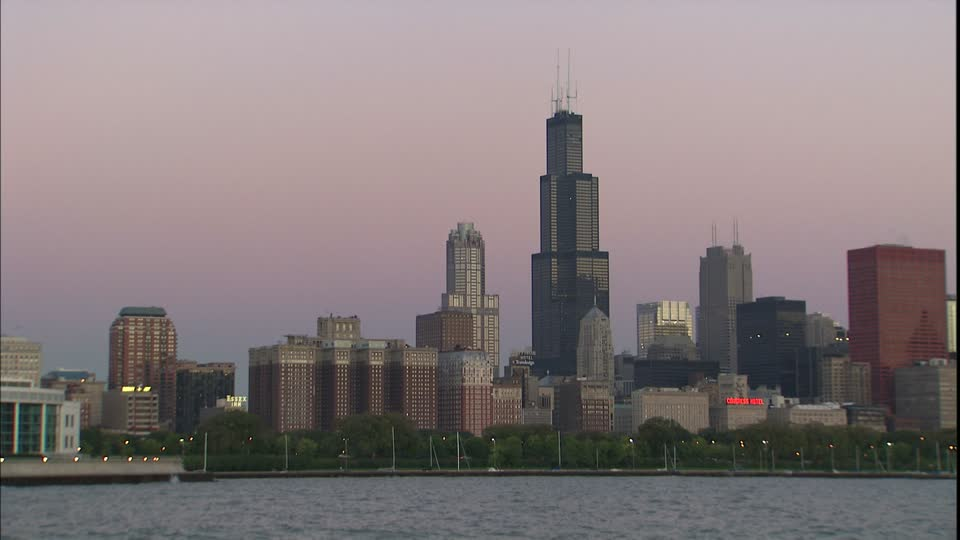willis: (520, 42, 623, 313)
